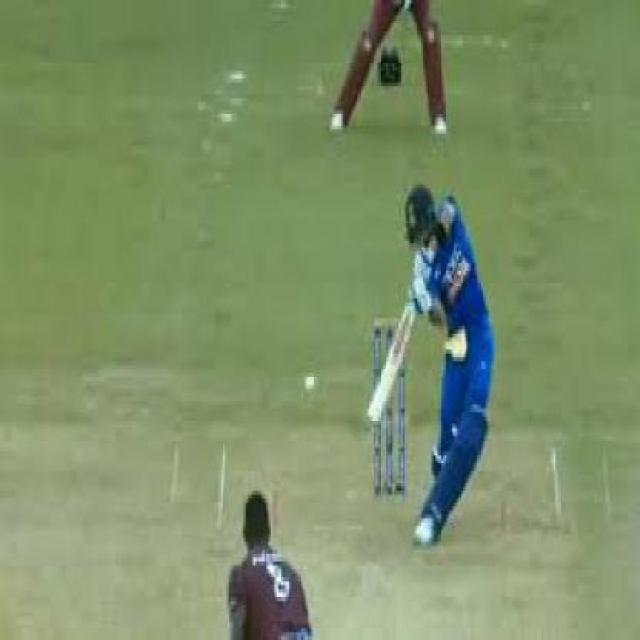ball: (291, 358, 329, 398)
